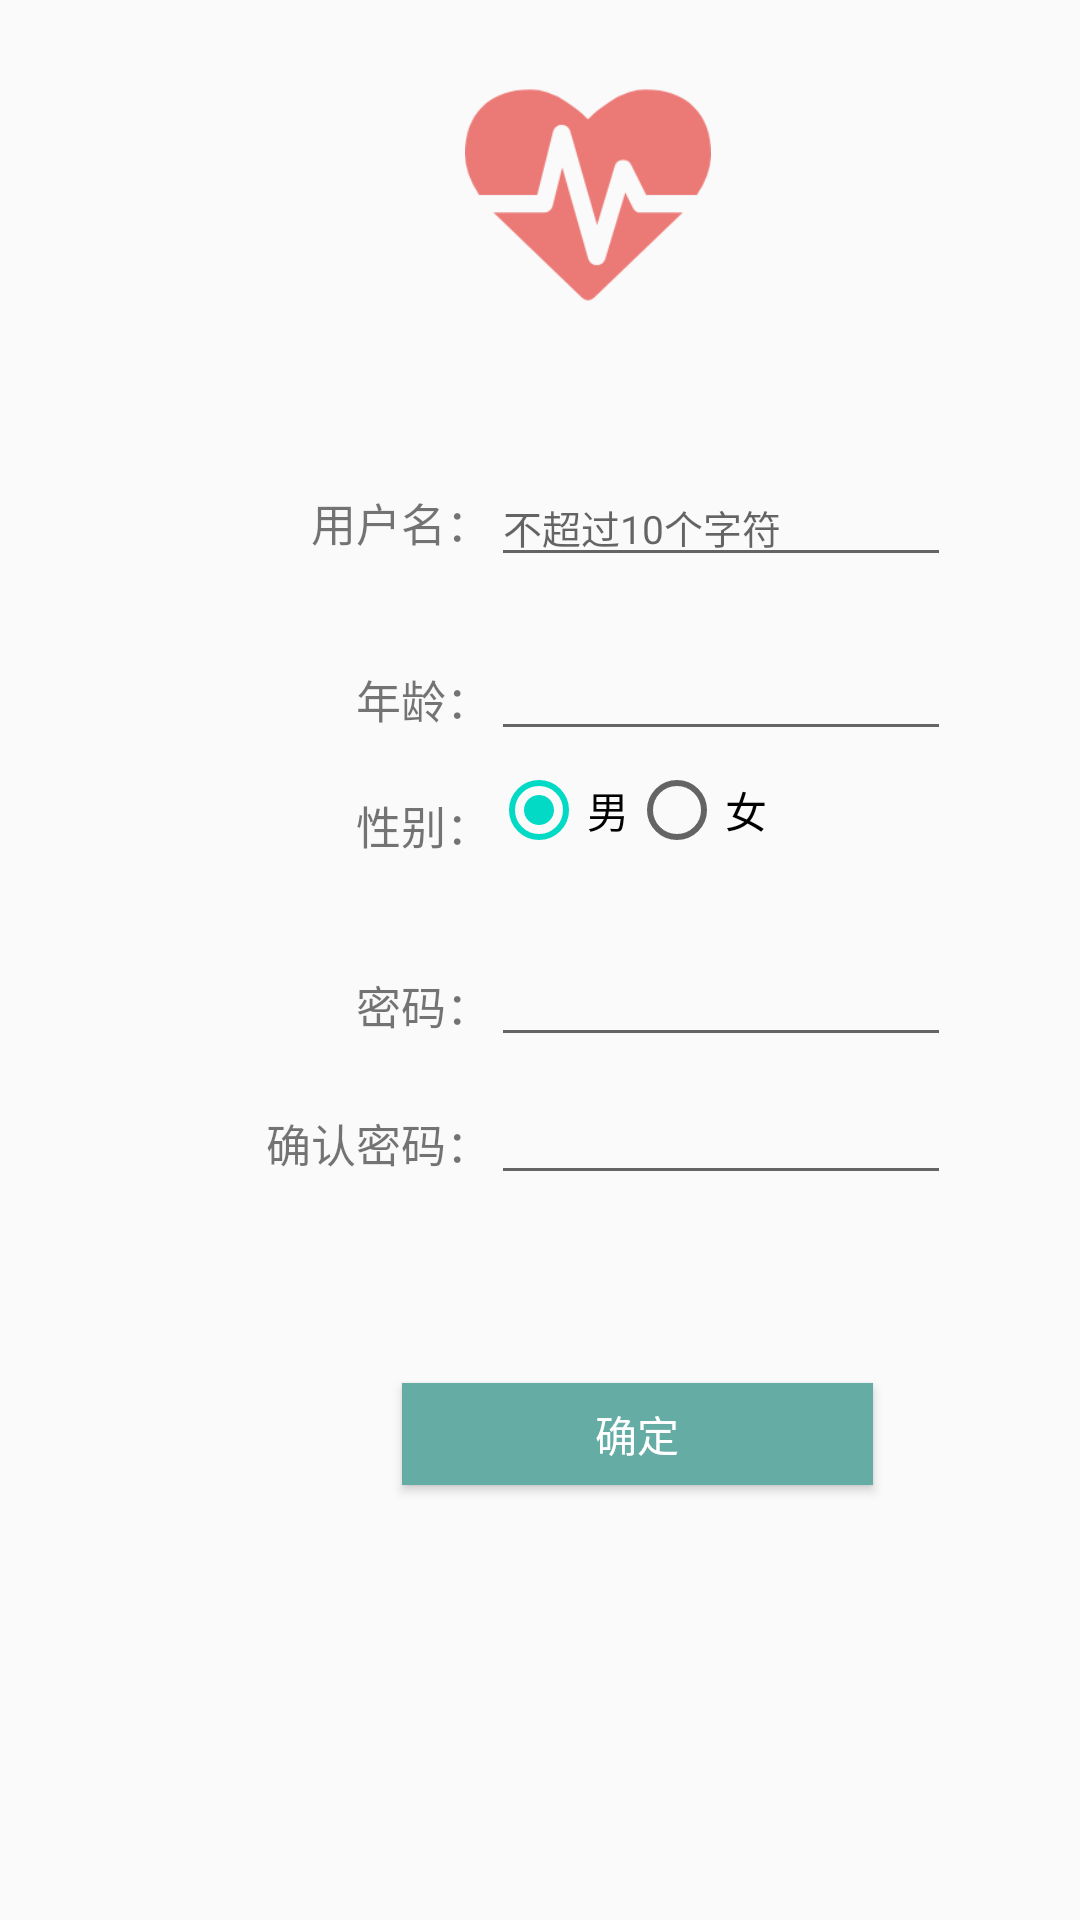

Icon bounding boxes for this 1080px x 1920px phone screenshot, format BBox(x1, y1, x2, y2):
heartbeat: BBox(465, 89, 711, 301)
